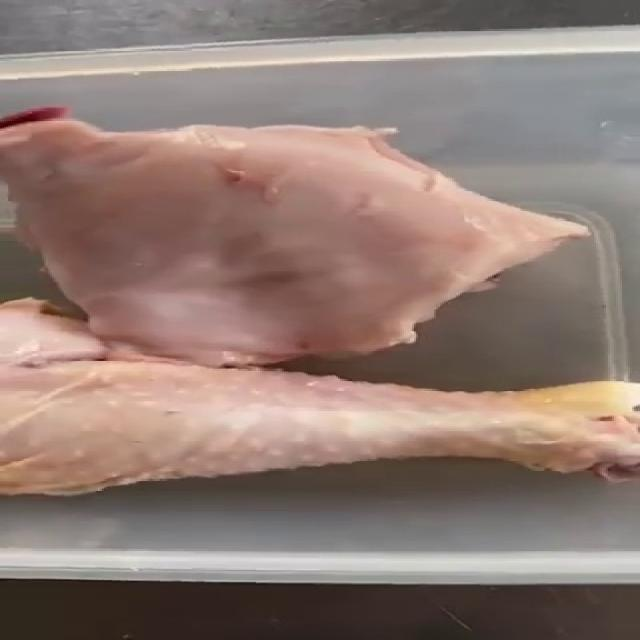chicken: (0, 106, 591, 369), (0, 295, 639, 497)
